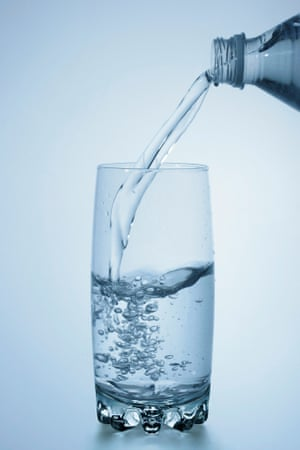glass of water: (92, 164, 212, 429)
